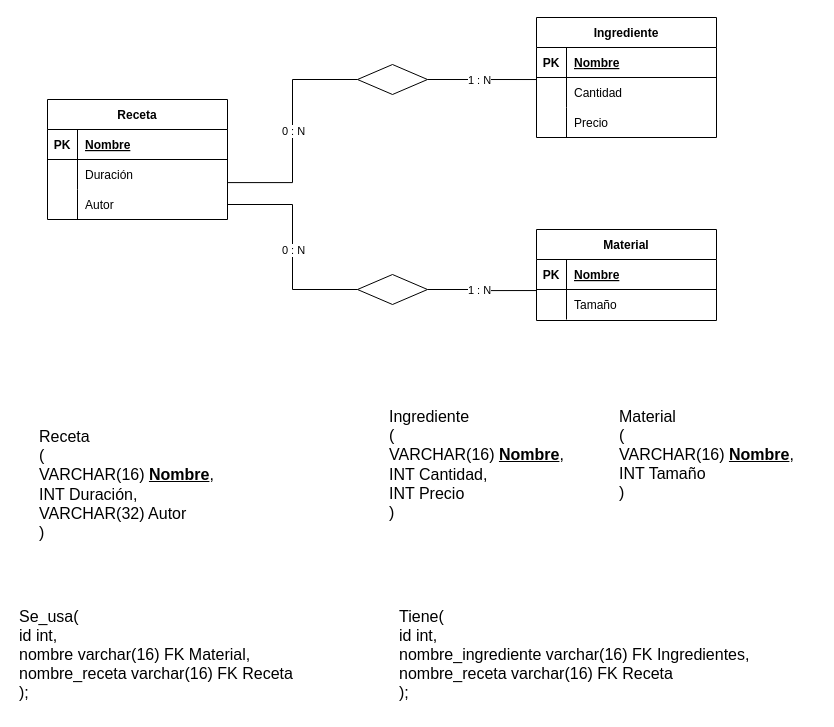
Some shapes in this 834 by 727 pixel diagram are drawn without their labels. The shapes that lost their labels are listed below. From the top down, each one's centre as x and y in pixels, then its label:
pixel 392 79: tiene
pixel 392 289: se usa
